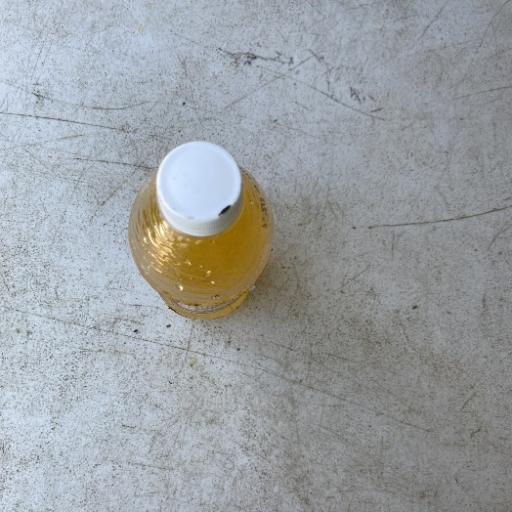Plastic: (125, 139, 276, 321)
